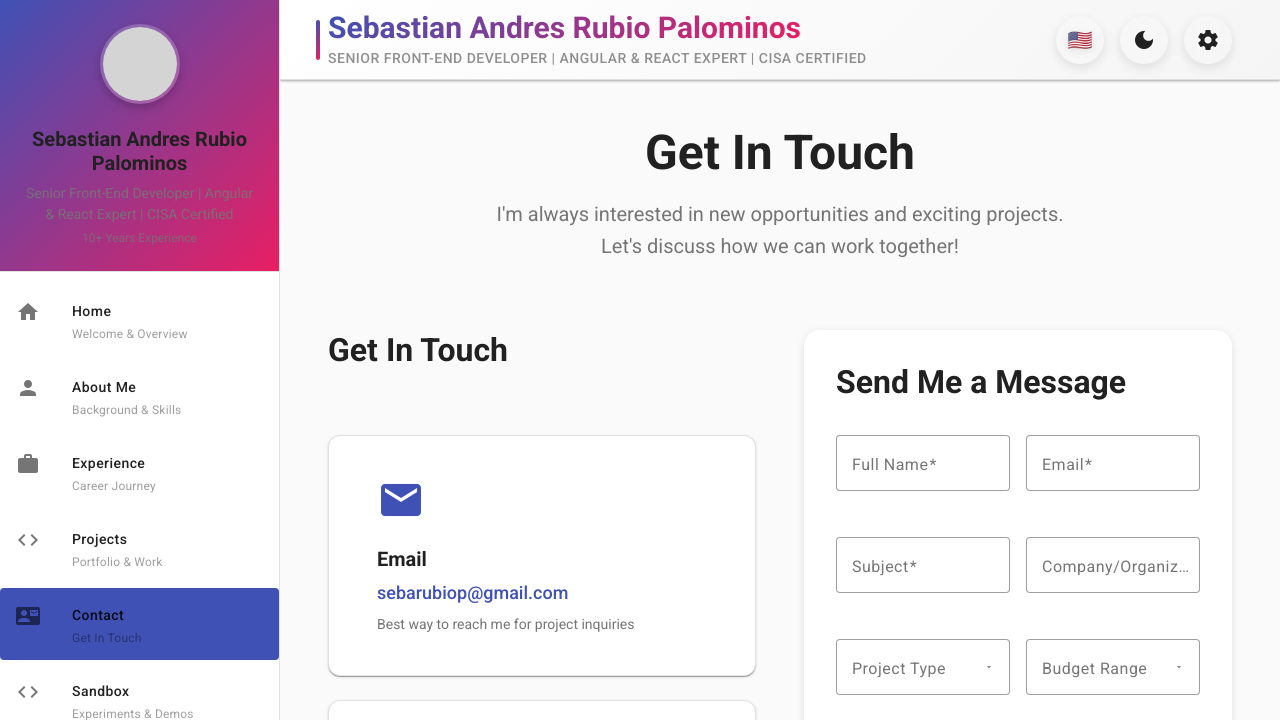
Scenario: Contact Form › should validate email format
In the field named "email": (1113, 463) [1042,451,1184,475], type "invalid-email"
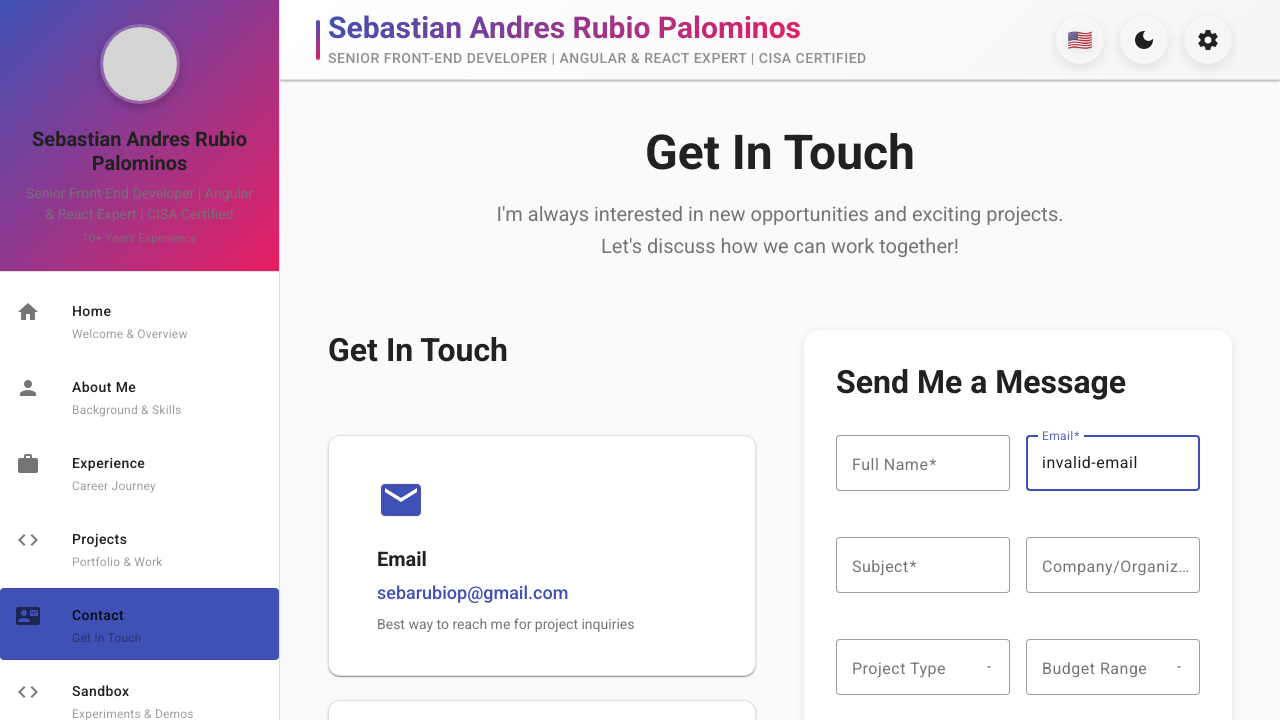
Leave the field named "email", box [1042,451,1184,475]
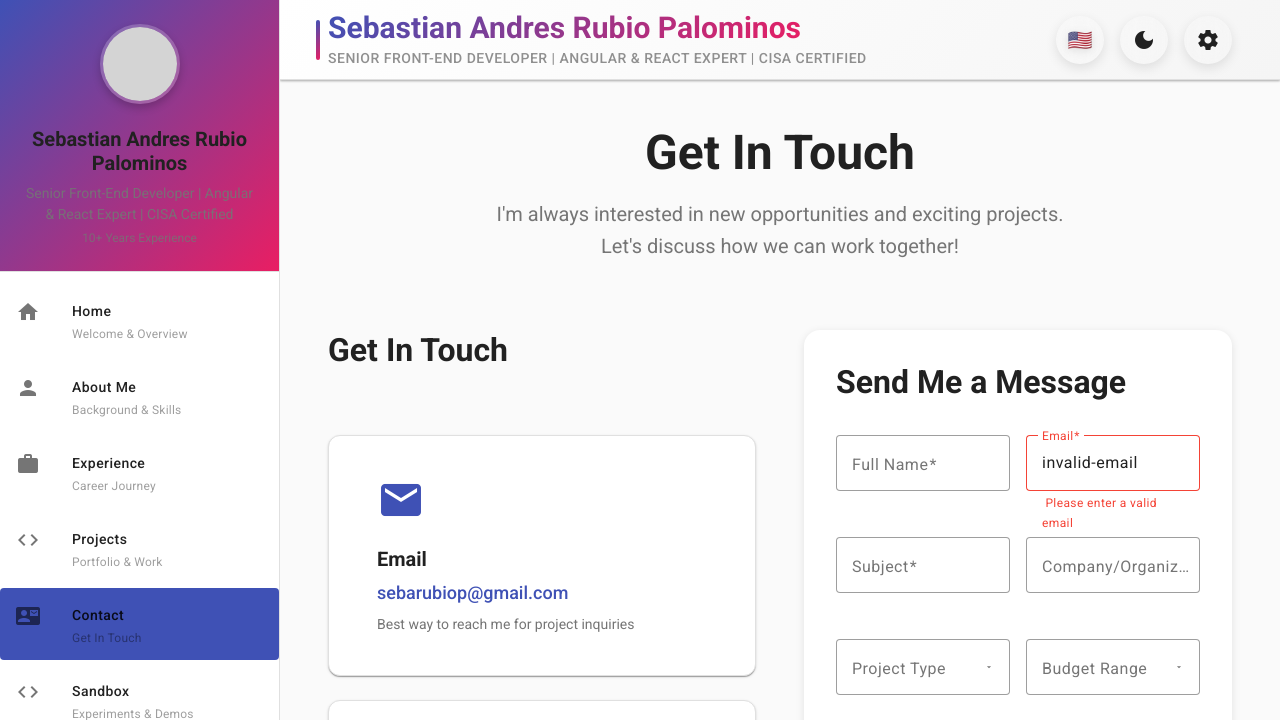
Check: the text "Please enter a valid email" is shown, box [1042,496,1157,530]
